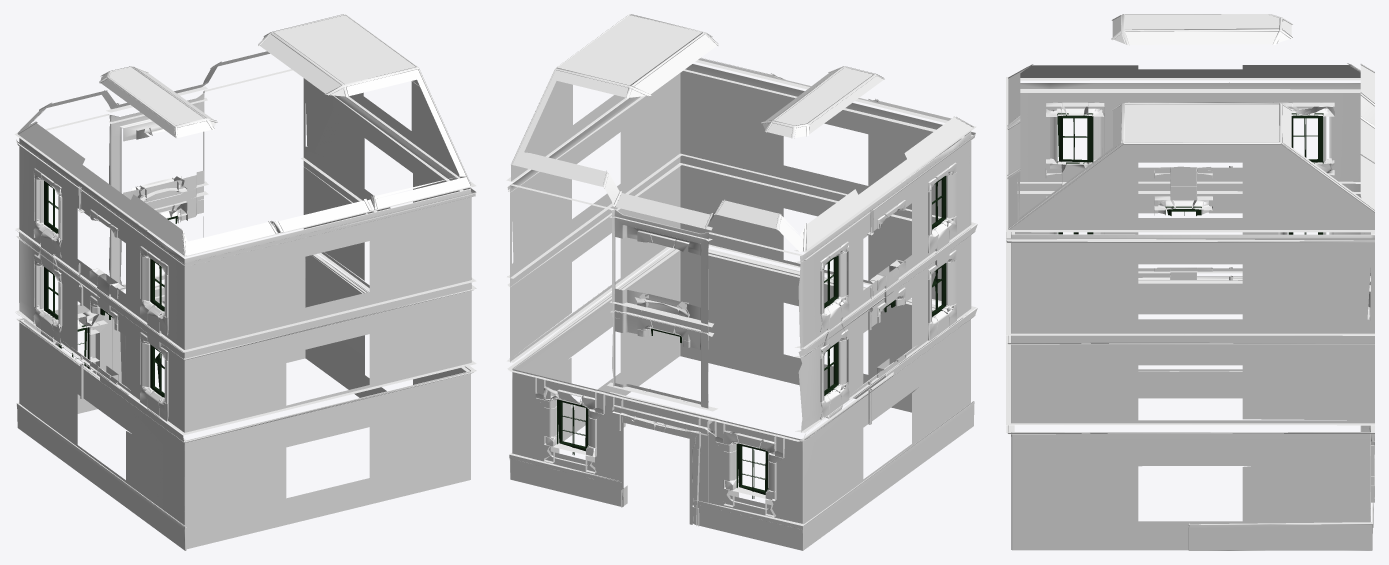
The model's file is B_BuildingCourtyard_LOD2.obj.
3 renders of one model, left to right at view 1: azimuth 30°, elevation 25°; view 2: azimuth 150°, elevation 25°; view 3: azimuth 270°, elevation 25°, orthographic. The views are drawn at different scales.
Parts seen in each view (by area): view 1: B_BuildingCourtyard_LOD2_m4, B_BuildingCourtyard_LOD2_m5, B_BuildingCourtyard_LOD2_m0, B_BuildingCourtyard_LOD2_m2, B_BuildingCourtyard_LOD2_m3, B_BuildingCourtyard_LOD2_m1; view 2: B_BuildingCourtyard_LOD2_m4, B_BuildingCourtyard_LOD2_m0, B_BuildingCourtyard_LOD2_m5, B_BuildingCourtyard_LOD2_m2, B_BuildingCourtyard_LOD2_m1, B_BuildingCourtyard_LOD2_m3; view 3: B_BuildingCourtyard_LOD2_m4, B_BuildingCourtyard_LOD2_m5, B_BuildingCourtyard_LOD2_m2, B_BuildingCourtyard_LOD2_m0, B_BuildingCourtyard_LOD2_m3, B_BuildingCourtyard_LOD2_m1.
Boxes of the visible parts, x1=… form: B_BuildingCourtyard_LOD2_m4: x1=19, y1=161, x2=471, y2=548; B_BuildingCourtyard_LOD2_m5: x1=19, y1=69, x2=471, y2=349; B_BuildingCourtyard_LOD2_m0: x1=14, y1=86, x2=476, y2=550; B_BuildingCourtyard_LOD2_m2: x1=18, y1=14, x2=471, y2=256; B_BuildingCourtyard_LOD2_m3: x1=17, y1=14, x2=471, y2=398; B_BuildingCourtyard_LOD2_m1: x1=44, y1=181, x2=177, y2=397; B_BuildingCourtyard_LOD2_m4: x1=510, y1=155, x2=971, y2=532; B_BuildingCourtyard_LOD2_m0: x1=506, y1=60, x2=977, y2=550; B_BuildingCourtyard_LOD2_m5: x1=510, y1=64, x2=971, y2=349; B_BuildingCourtyard_LOD2_m2: x1=511, y1=14, x2=973, y2=251; B_BuildingCourtyard_LOD2_m1: x1=557, y1=176, x2=946, y2=498; B_BuildingCourtyard_LOD2_m3: x1=511, y1=14, x2=973, y2=424; B_BuildingCourtyard_LOD2_m4: x1=1011, y1=183, x2=1374, y2=550; B_BuildingCourtyard_LOD2_m5: x1=1011, y1=83, x2=1374, y2=335; B_BuildingCourtyard_LOD2_m2: x1=1008, y1=14, x2=1374, y2=229; B_BuildingCourtyard_LOD2_m0: x1=1006, y1=77, x2=1374, y2=550; B_BuildingCourtyard_LOD2_m3: x1=1007, y1=14, x2=1374, y2=280; B_BuildingCourtyard_LOD2_m1: x1=1057, y1=113, x2=1323, y2=234.
Bounding box in the file's own units: 10.6 × 12.91 × 10.6.
